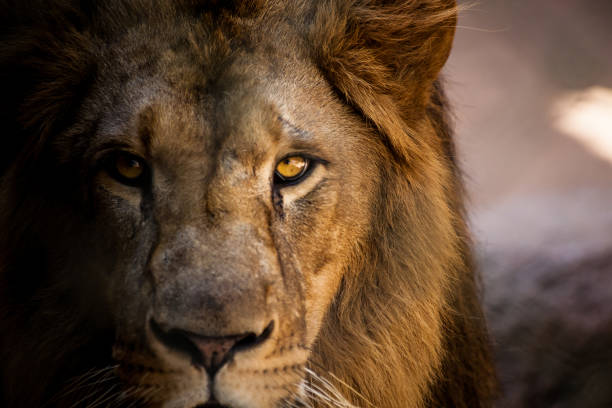lion: (3, 3, 496, 408)
